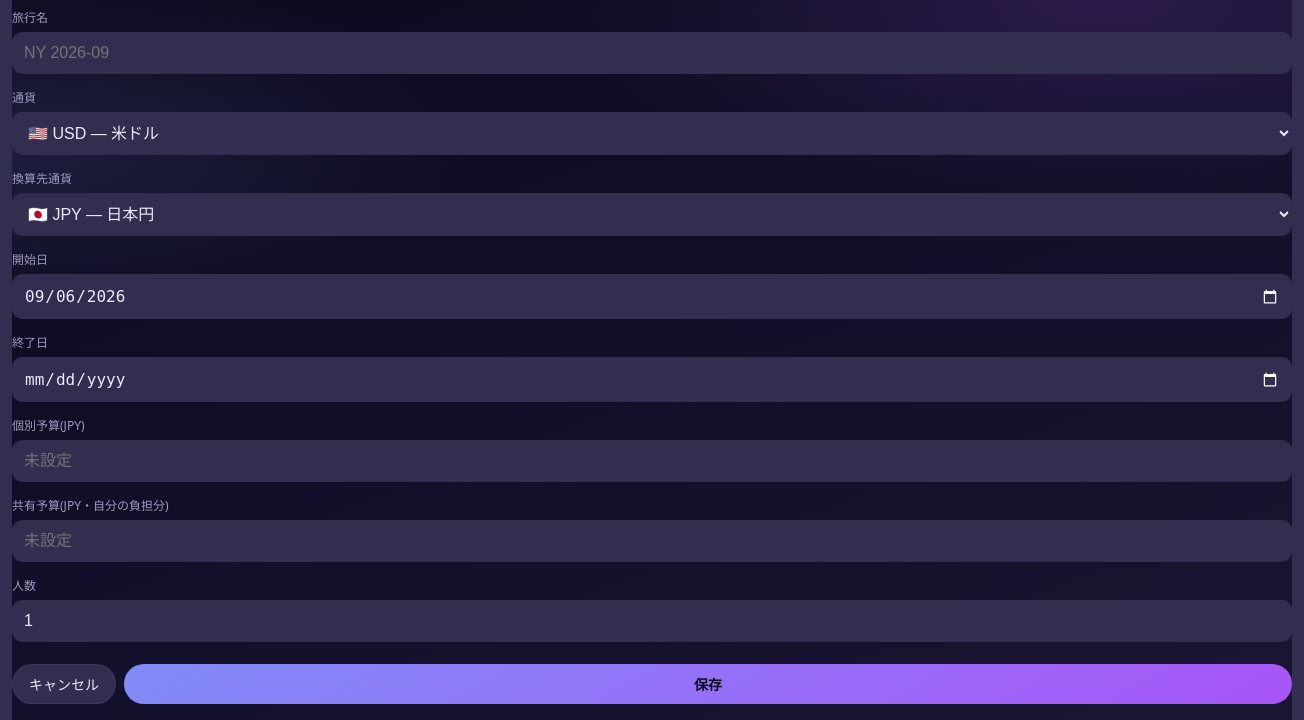
Test: TripForm › 換算先を小数 0 桁から 2 桁へ切り替えると小数部が付く
Type "50000" into the field labelled "個別予算(JPY)".
click(652, 461); type("50000")  # box [12, 440, 1292, 482]
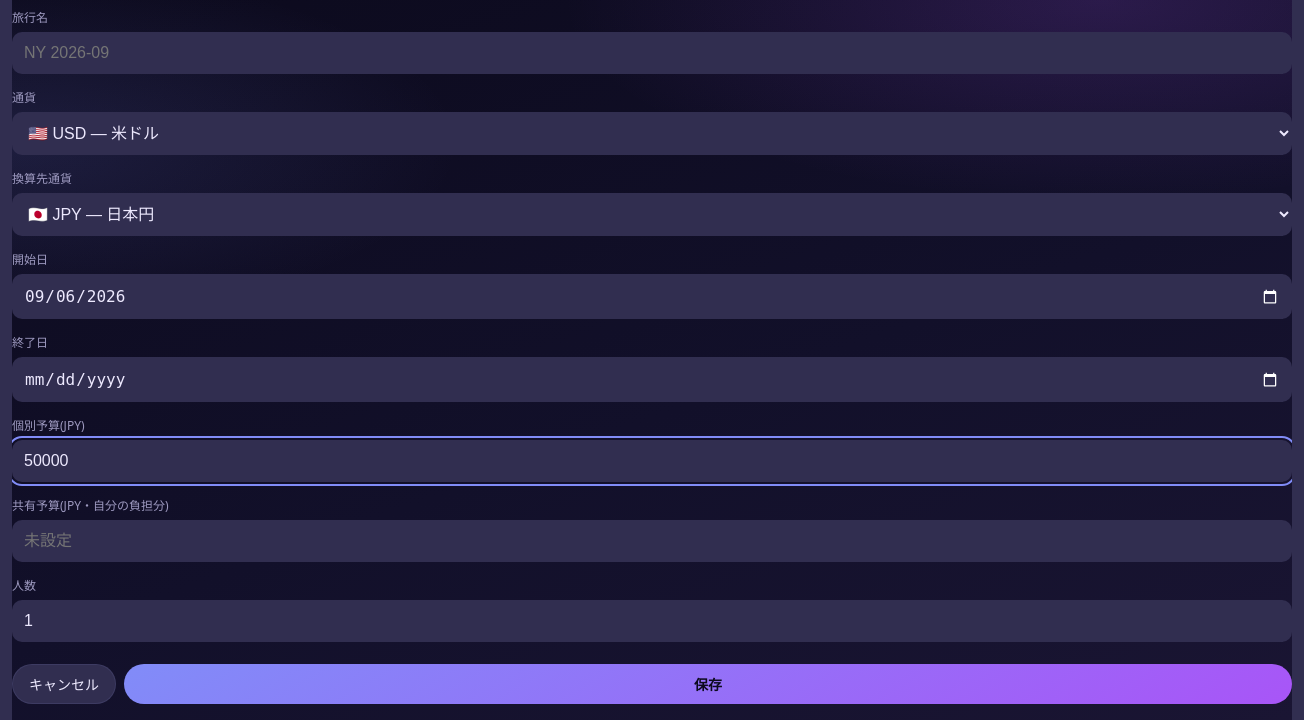
Select "🇪🇺 EUR — ユーロ" in the dropdown labelled "換算先通貨" at (652, 214), box [12, 193, 1292, 236]
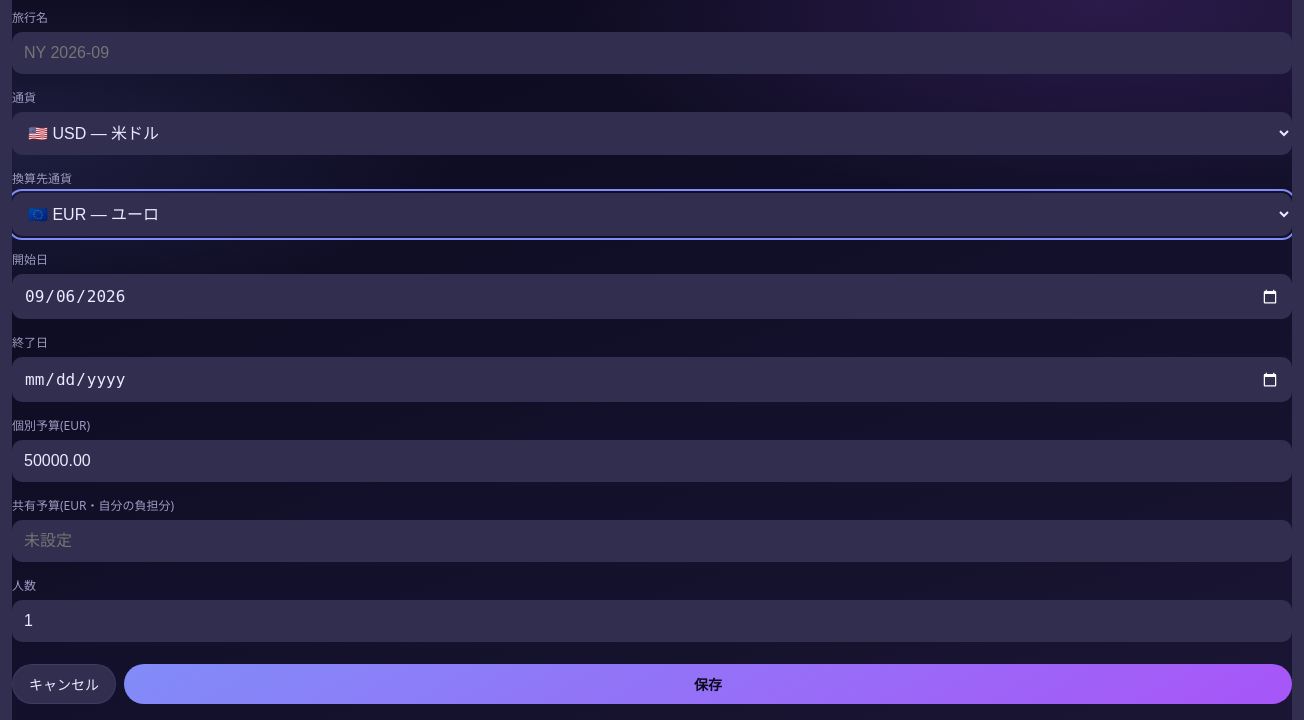
Expected: the field labelled "個別予算(EUR)" holds "50000.00", [12, 440, 1292, 482]
